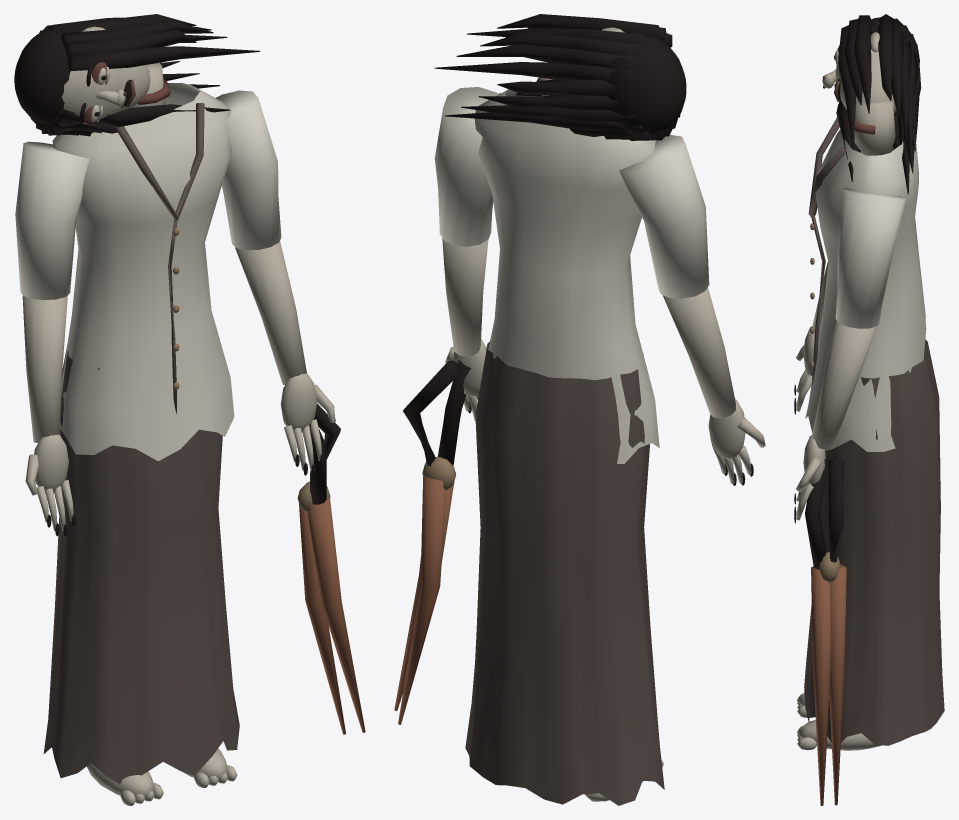
Rendered from SriAtmajaCharacter.fbx.
3 renders of one model, left to right at view 1: azimuth 30°, elevation 25°; view 2: azimuth 150°, elevation 25°; view 3: azimuth 270°, elevation 25°, orthographic. The views are drawn at different scales.
Visible parts, largest first — view 1: Body__Sri_Batik, Body__Sri_Cloth, Head__Sri_Hair, UpperArm_L__Sri_Cloth, UpperArm_R__Sri_Cloth, Shears__Sri_Rust, Forearm_L__Sri_Skin, Forearm_R__Sri_Skin, Head__Sri_Skin, Hand_R__Sri_Skin, Hand_L__Sri_Skin, Shears__Sri_Hair (+2 smaller); view 2: Body__Sri_Batik, Body__Sri_Cloth, Head__Sri_Hair, UpperArm_L__Sri_Cloth, UpperArm_R__Sri_Cloth, Shears__Sri_Rust, Forearm_L__Sri_Skin, Forearm_R__Sri_Skin, Shears__Sri_Hair, Hand_L__Sri_Skin, Hand_R__Sri_Skin, Shears__Sri_Rope; view 3: Body__Sri_Batik, Body__Sri_Cloth, Head__Sri_Hair, UpperArm_R__Sri_Cloth, Shears__Sri_Rust, Forearm_R__Sri_Skin, Shears__Sri_Hair, Body__Sri_Skin, Head__Sri_Skin, Hand_R__Sri_Skin, Leg_R__Sri_Skin, Hand_L__Sri_Skin (+2 smaller).
Boxes of the visible parts, left/top/right/bottom form: Body__Sri_Batik: left=43, top=103, right=239, bottom=783; Body__Sri_Cloth: left=52, top=82, right=234, bottom=461; Head__Sri_Hair: left=14, top=14, right=260, bottom=136; UpperArm_L__Sri_Cloth: left=15, top=141, right=89, bottom=300; UpperArm_R__Sri_Cloth: left=216, top=90, right=281, bottom=250; Shears__Sri_Rust: left=299, top=498, right=365, bottom=734; Forearm_L__Sri_Skin: left=22, top=295, right=67, bottom=442; Forearm_R__Sri_Skin: left=235, top=241, right=306, bottom=384; Head__Sri_Skin: left=61, top=26, right=150, bottom=124; Hand_R__Sri_Skin: left=280, top=373, right=335, bottom=470; Hand_L__Sri_Skin: left=25, top=434, right=73, bottom=531; Shears__Sri_Hair: left=309, top=403, right=340, bottom=504; Body__Sri_Batik: left=465, top=77, right=664, bottom=805; Body__Sri_Cloth: left=474, top=89, right=659, bottom=463; Head__Sri_Hair: left=434, top=14, right=686, bottom=140; UpperArm_L__Sri_Cloth: left=619, top=135, right=709, bottom=298; UpperArm_R__Sri_Cloth: left=434, top=87, right=498, bottom=246; Shears__Sri_Rust: left=394, top=472, right=455, bottom=724; Forearm_L__Sri_Skin: left=662, top=287, right=735, bottom=418; Forearm_R__Sri_Skin: left=442, top=238, right=488, bottom=356; Shears__Sri_Hair: left=403, top=360, right=471, bottom=466; Hand_L__Sri_Skin: left=708, top=398, right=765, bottom=483; Hand_R__Sri_Skin: left=445, top=338, right=486, bottom=420; Shears__Sri_Rope: left=422, top=456, right=455, bottom=490; Body__Sri_Batik: left=804, top=117, right=944, bottom=745; Body__Sri_Cloth: left=805, top=129, right=926, bottom=451; Head__Sri_Hair: left=834, top=14, right=921, bottom=194; UpperArm_R__Sri_Cloth: left=835, top=188, right=905, bottom=328; Shears__Sri_Rust: left=811, top=564, right=846, bottom=805; Forearm_R__Sri_Skin: left=812, top=321, right=876, bottom=449; Shears__Sri_Hair: left=805, top=458, right=843, bottom=569; Body__Sri_Skin: left=854, top=99, right=895, bottom=155; Head__Sri_Skin: left=822, top=32, right=896, bottom=112; Hand_R__Sri_Skin: left=796, top=435, right=825, bottom=520; Leg_R__Sri_Skin: left=797, top=720, right=882, bottom=750; Hand_L__Sri_Skin: left=796, top=326, right=814, bottom=411.
Size of the model in its own units: 75.63 by 158 by 31.55.
